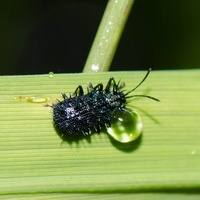insect: (0, 71, 158, 142), (50, 69, 158, 142)
